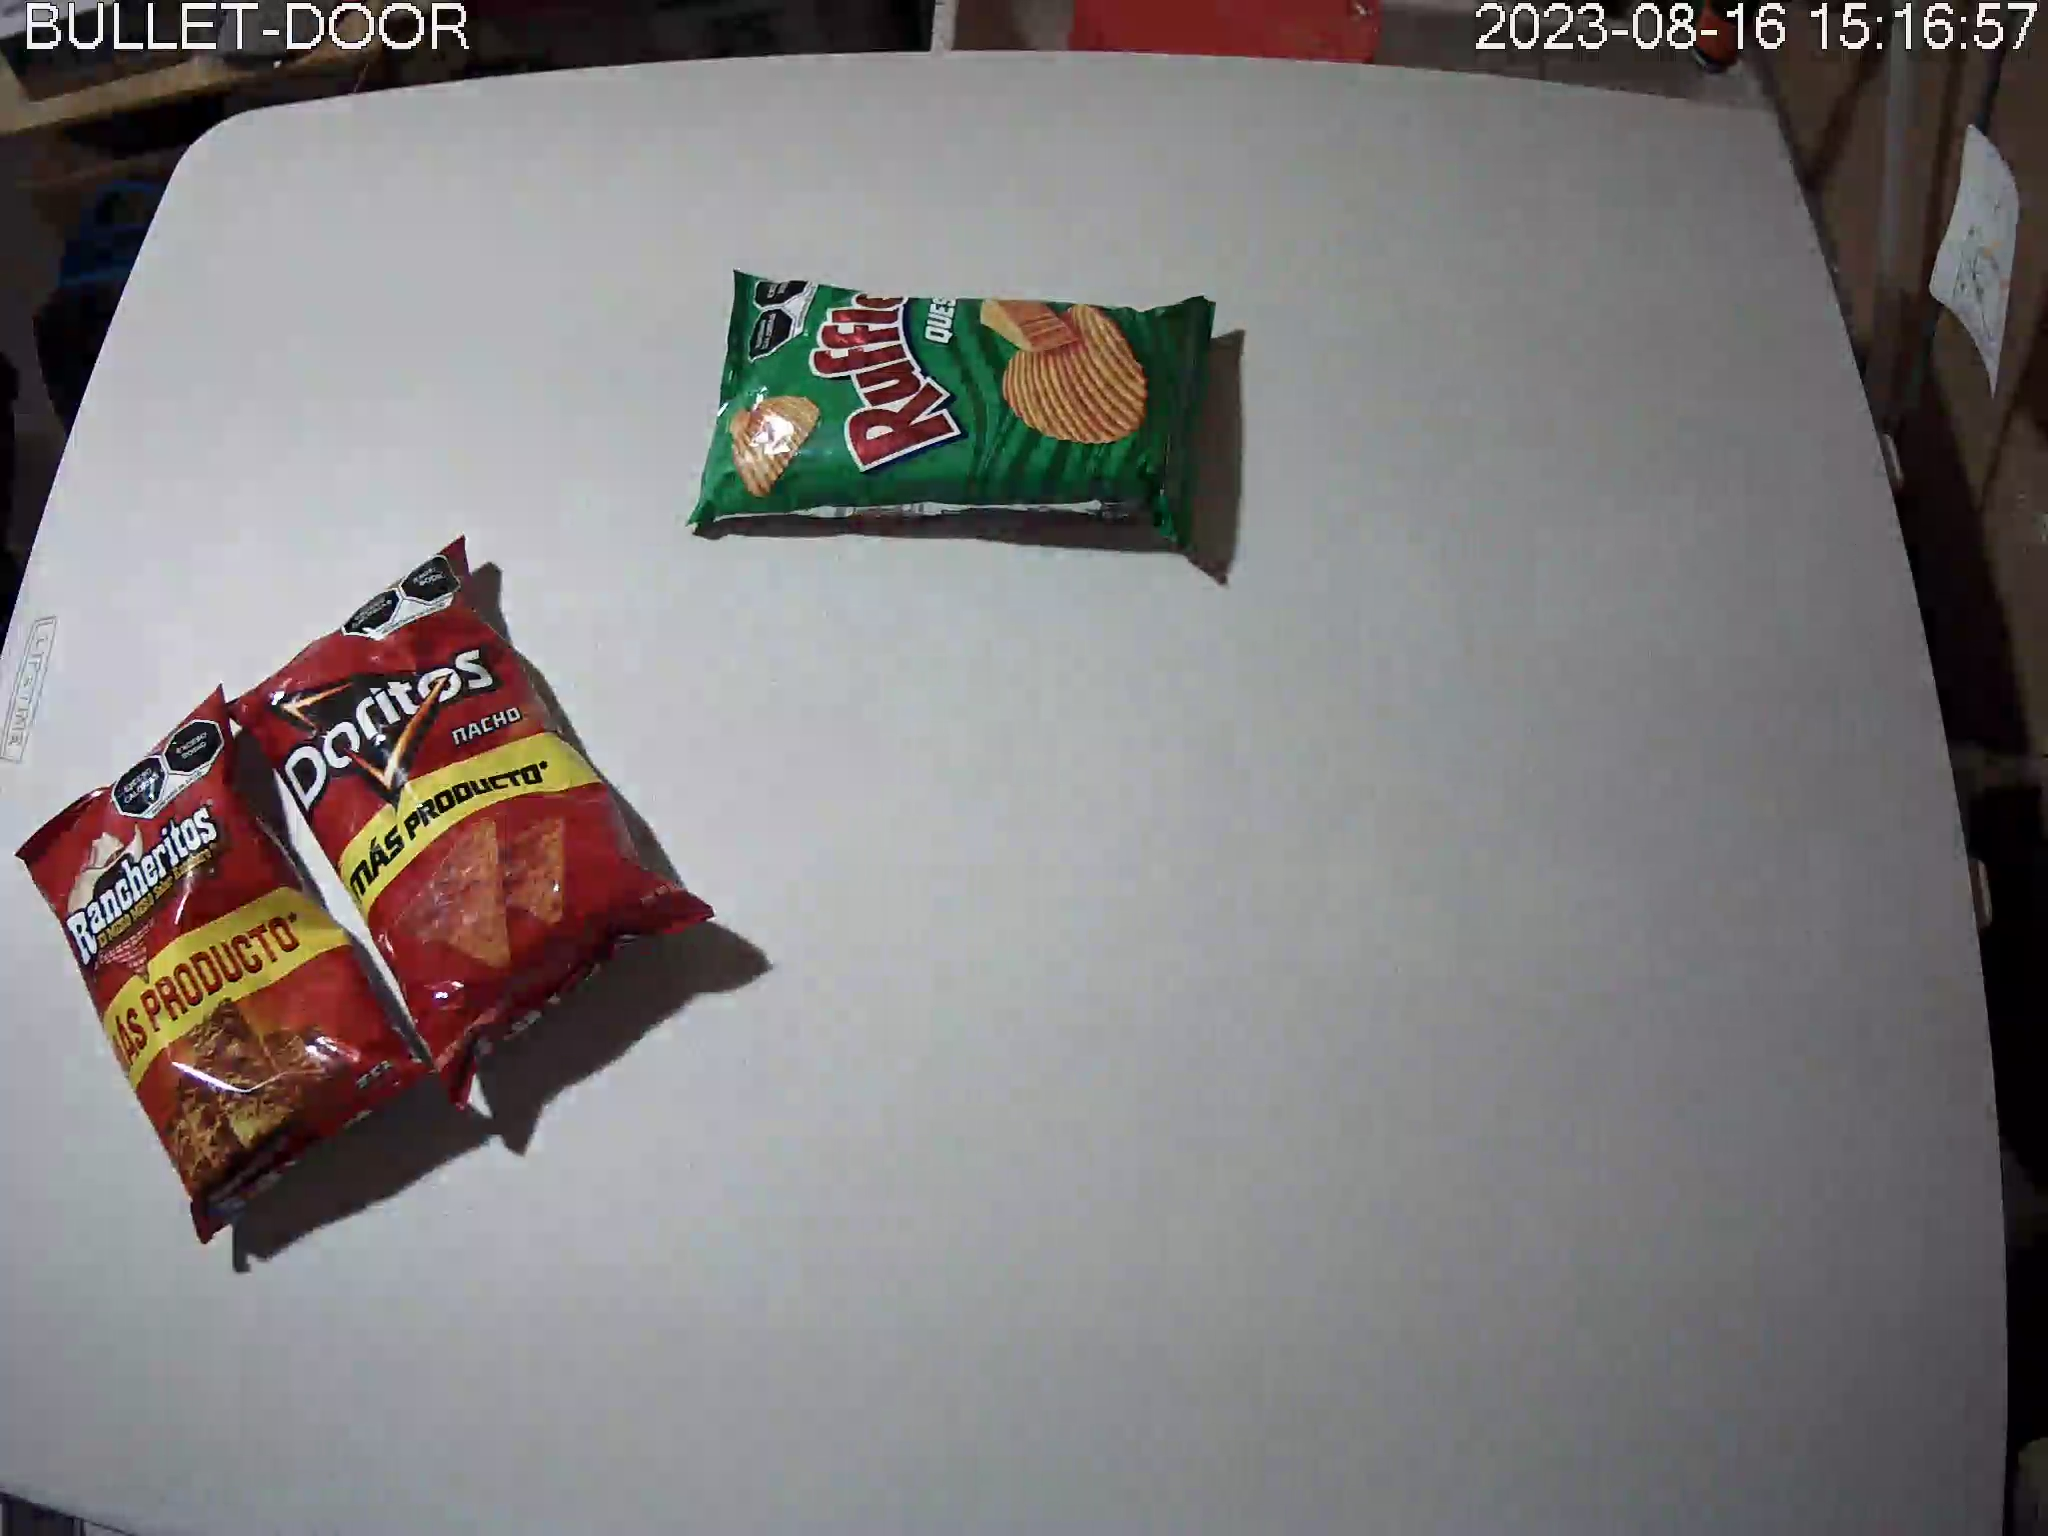DoritosN_61_F: (223, 537, 716, 1113)
Rancheritos_58_F: (15, 684, 453, 1247)
RufflesQ_48_F: (689, 266, 1218, 563)
